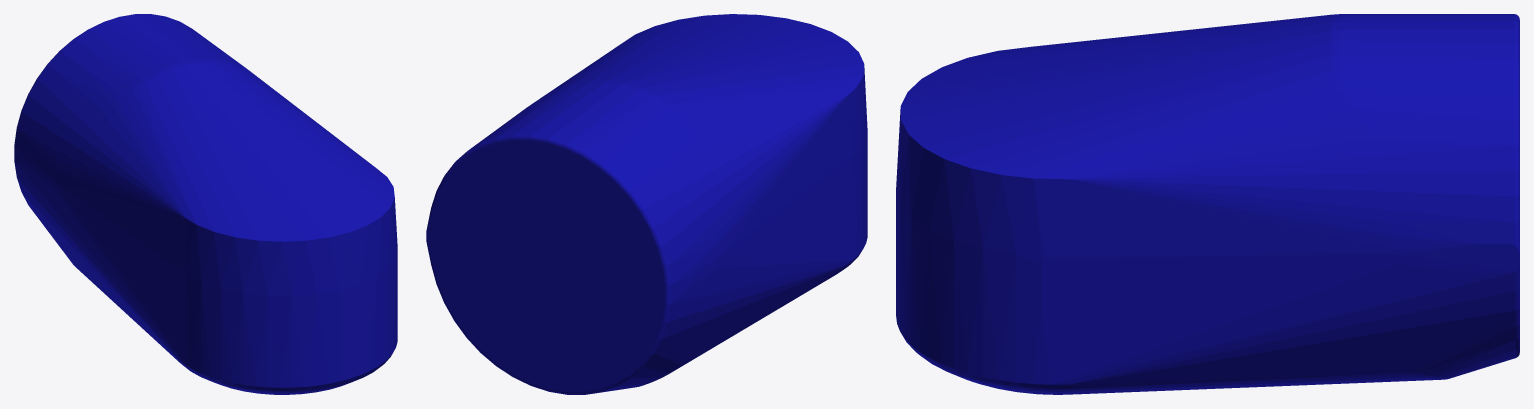
File: MOTOMAN_AXIS_E_COLLISION.dae
3 views of the same model, side by side, from view 1: azimuth 30°, elevation 25°; view 2: azimuth 150°, elevation 25°; view 3: azimuth 270°, elevation 25° (orthographic). The views are drawn at different scales.
Visible parts, largest first — view 1: node; view 2: node; view 3: node.
Boxes of the visible parts, left/top/right/bottom form: node: left=14, top=14, right=397, bottom=394; node: left=426, top=14, right=867, bottom=394; node: left=896, top=14, right=1519, bottom=394.
Size of the model in its own units: 0.1821 by 0.195 by 0.3296.
